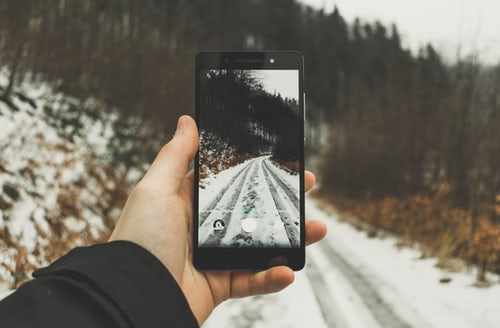phone: (192, 50, 310, 278)
